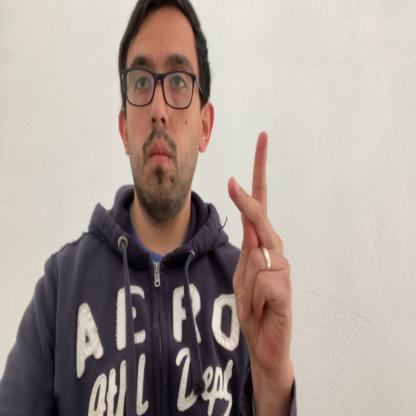P: (228, 130, 292, 374)
